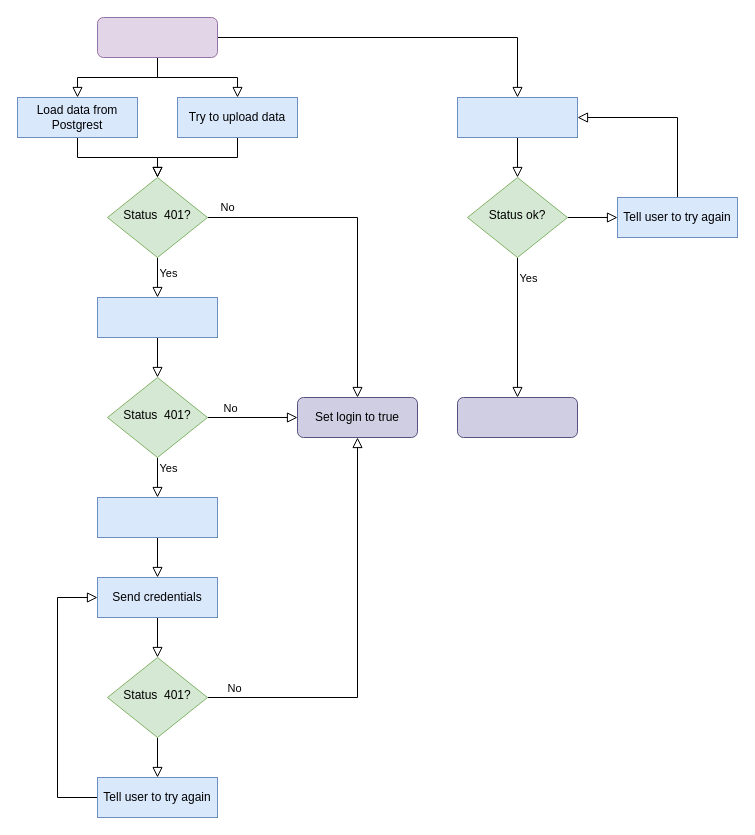
The diagram is 755 pixels wide and 835 high, and some of its shapes have lost their labels. Each missing label, with the centre of its shape:
Log out: pixel 517 117
Page Load: pixel 157 37
Refresh token: pixel 157 317
Set login to false: pixel 517 417
Tell user to log in: pixel 157 517
